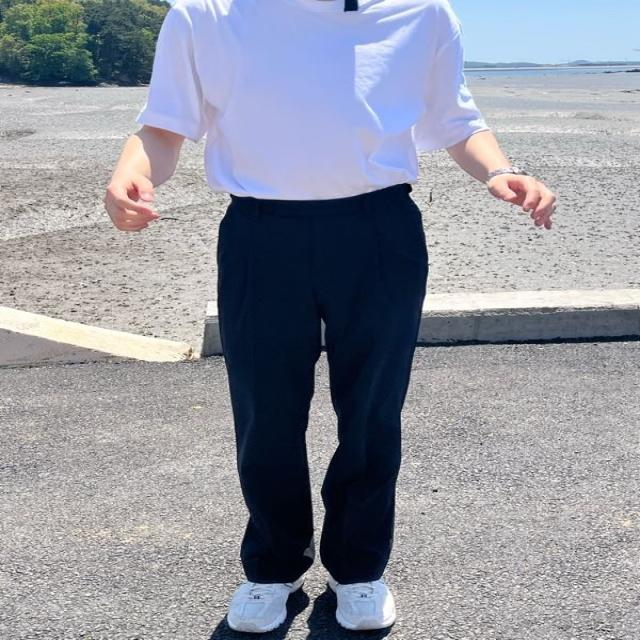shortsleeve: (136, 4, 490, 204)
slacks: (216, 189, 430, 590)
